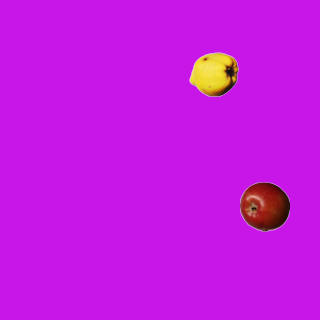Apple Braeburn: (239, 181, 289, 231)
Quince: (188, 49, 238, 99)
